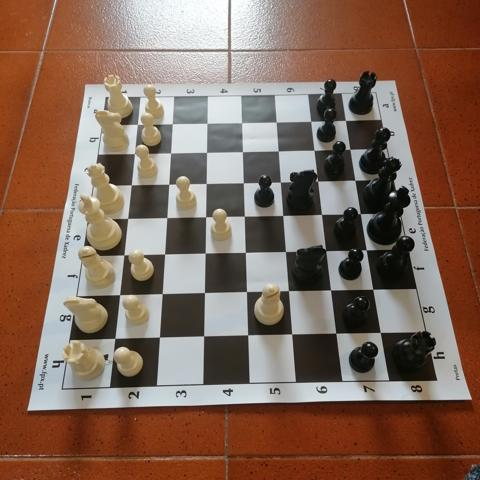xcorner: (234, 114, 250, 130), (199, 115, 215, 131), (344, 141, 360, 157), (308, 142, 324, 158), (162, 145, 178, 161), (274, 174, 290, 190), (160, 176, 176, 192), (122, 177, 138, 193), (355, 206, 371, 222), (158, 210, 174, 226), (320, 243, 336, 259), (279, 244, 295, 260), (238, 245, 254, 261), (197, 246, 213, 262), (156, 247, 172, 263), (115, 248, 131, 264), (325, 283, 341, 299), (282, 284, 298, 300), (330, 326, 346, 342), (106, 332, 122, 348), (339, 113, 355, 128), (305, 113, 320, 129), (270, 114, 285, 130), (164, 116, 180, 131), (129, 116, 144, 132), (235, 144, 251, 159), (199, 144, 214, 160), (349, 173, 365, 188), (312, 173, 327, 189), (236, 175, 252, 190), (198, 176, 214, 191), (316, 207, 331, 223), (237, 209, 253, 224), (198, 209, 213, 225), (119, 211, 134, 227), (361, 243, 377, 258), (368, 282, 383, 298), (240, 285, 255, 301), (197, 286, 212, 302), (154, 287, 169, 303), (111, 288, 126, 304), (375, 325, 390, 341), (196, 330, 212, 345), (151, 331, 167, 346), (272, 143, 287, 158), (126, 146, 141, 161), (277, 208, 292, 223), (286, 328, 301, 343), (241, 329, 256, 344)
